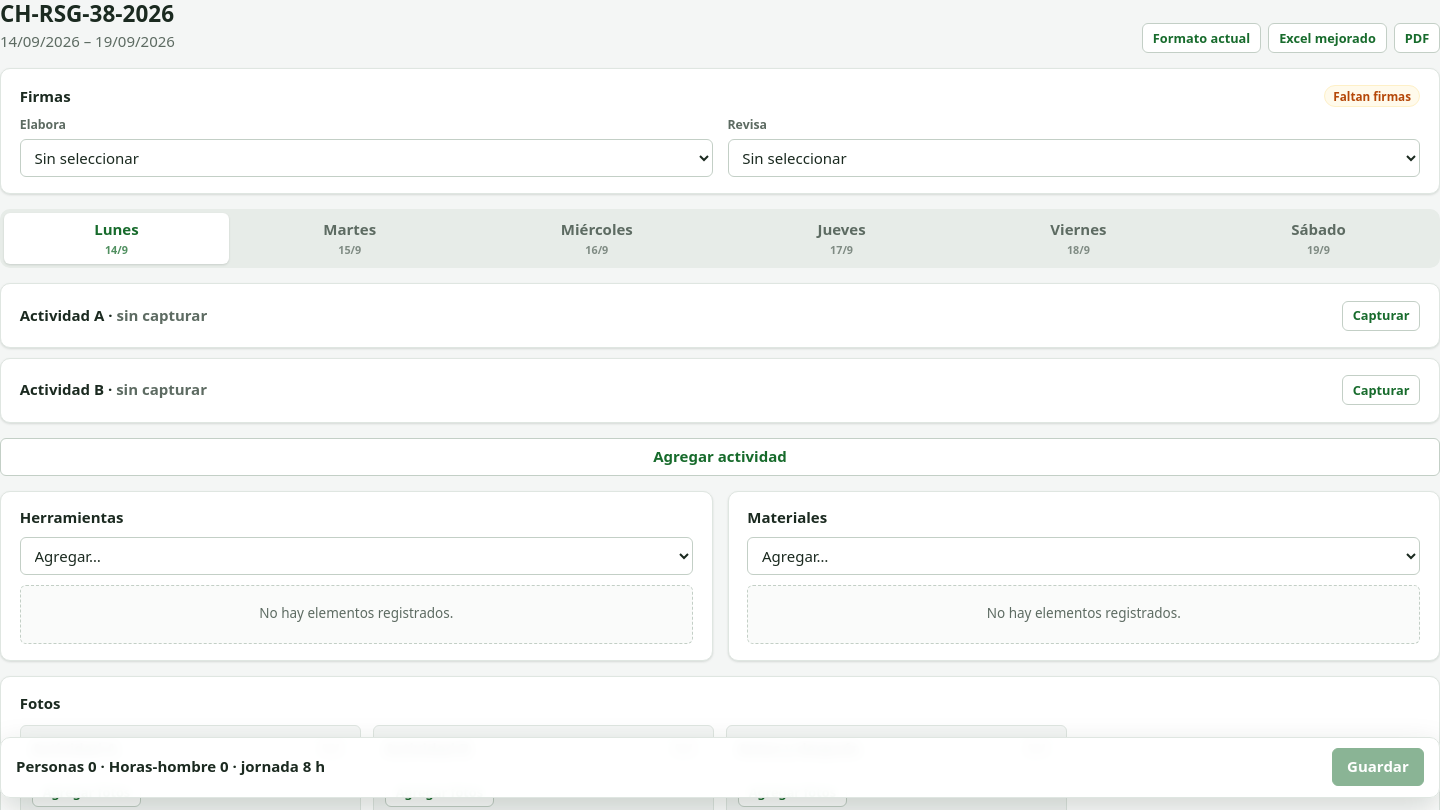
it: despliega una actividad vacía al pulsar Capturar
Expected: the field labelled "Descripción" is not shown
Click the 1st button "Capturar".
click(1381, 316)  # box x1=1342 y1=301 x2=1420 y2=331
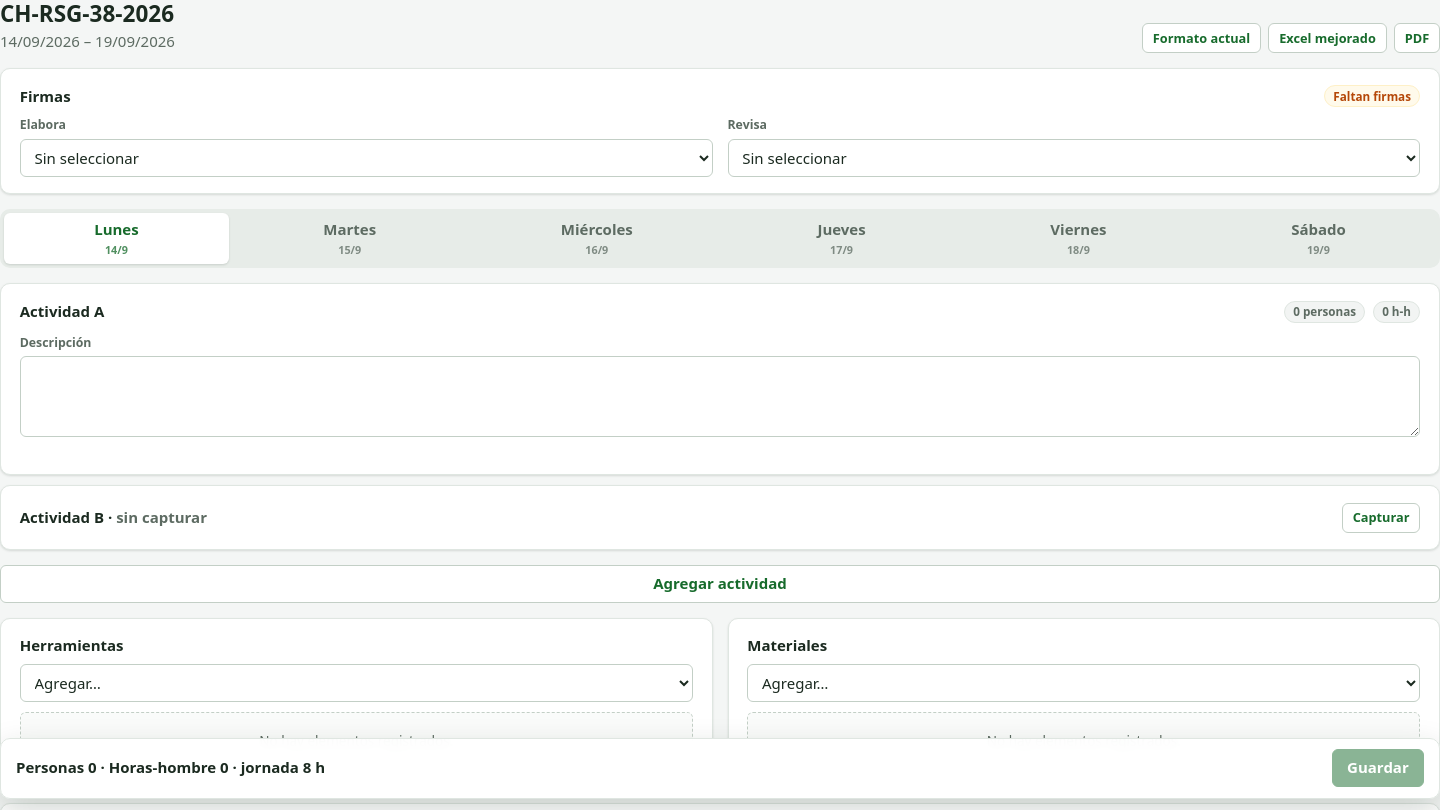
Result: the text box labelled "Descripción" is shown at x1=20 y1=356 x2=1420 y2=437
